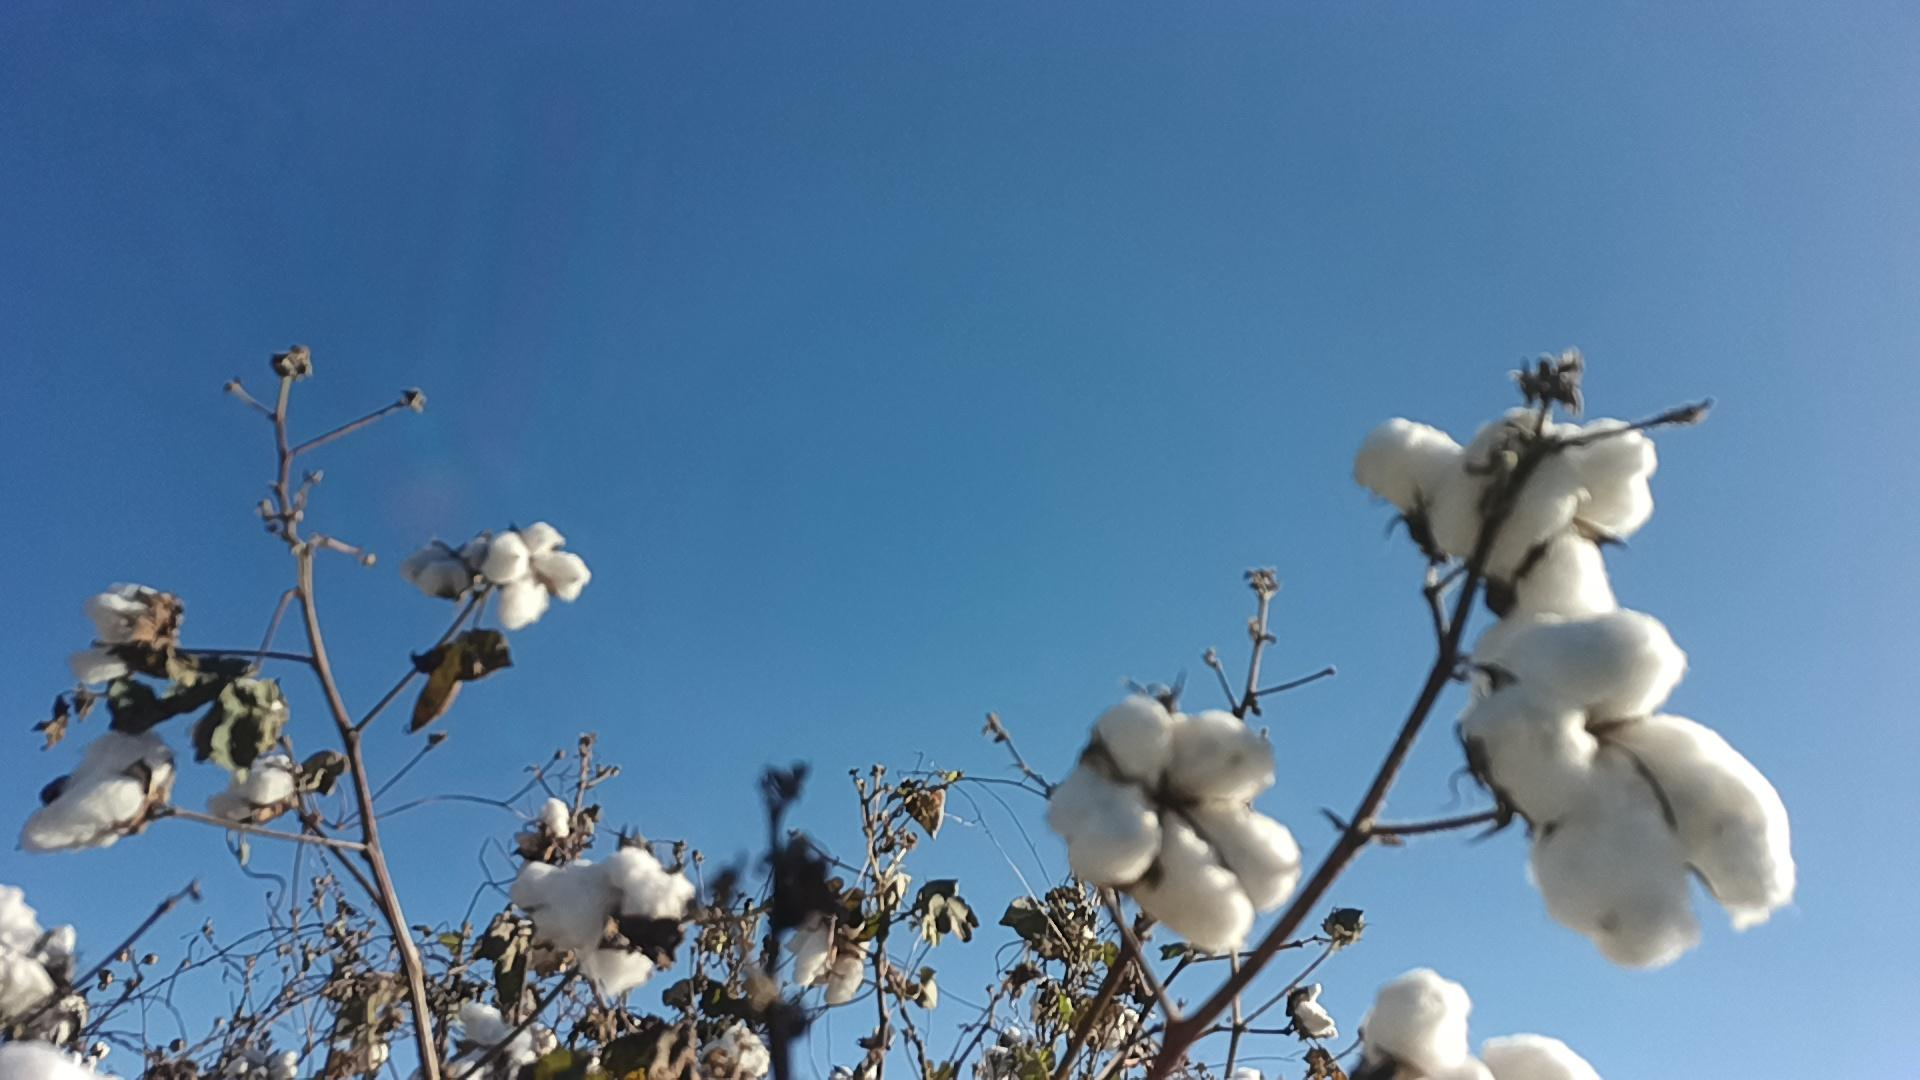cotton_ready: (1474, 601, 1796, 982), (1046, 692, 1308, 968), (1348, 407, 1650, 618), (1345, 976, 1600, 1080), (516, 848, 696, 992), (0, 882, 100, 1080), (24, 725, 179, 852), (63, 580, 183, 691), (488, 527, 593, 624), (434, 1004, 539, 1080), (396, 535, 489, 605), (233, 750, 306, 815)
